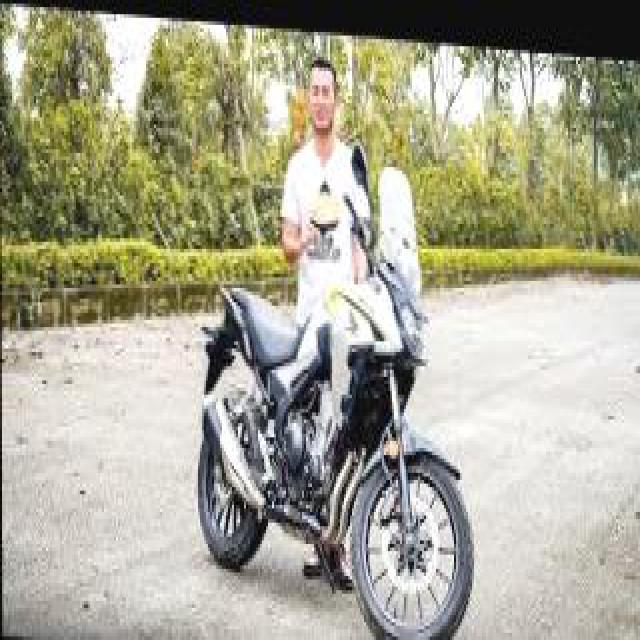CB500X: (194, 143, 476, 636)
